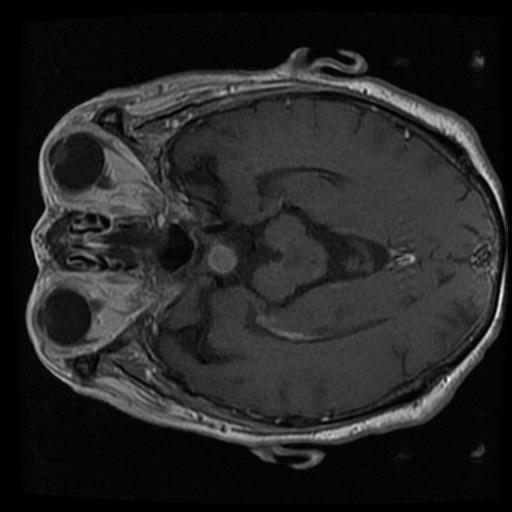pituitary tumour: (202, 241, 239, 276)
